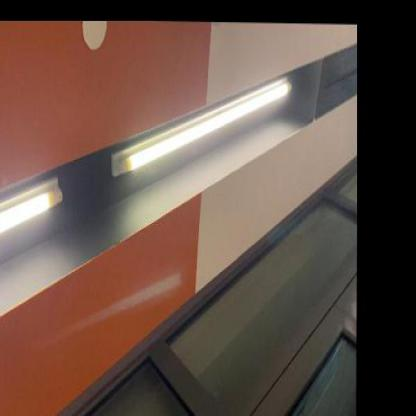light_on: (106, 62, 300, 200), (0, 160, 79, 277)
